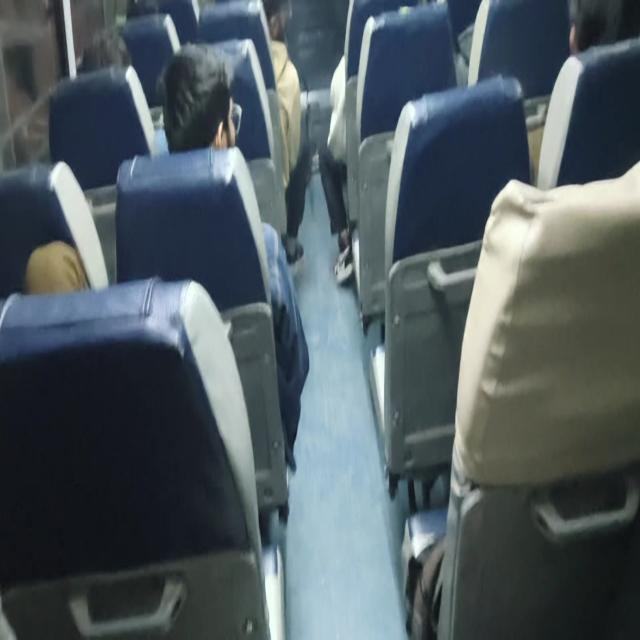person: (156, 65, 242, 142), (565, 0, 640, 65), (256, 0, 309, 57), (81, 32, 140, 68)
